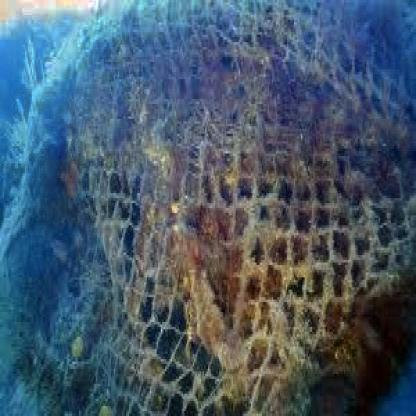net: (54, 7, 408, 416)
